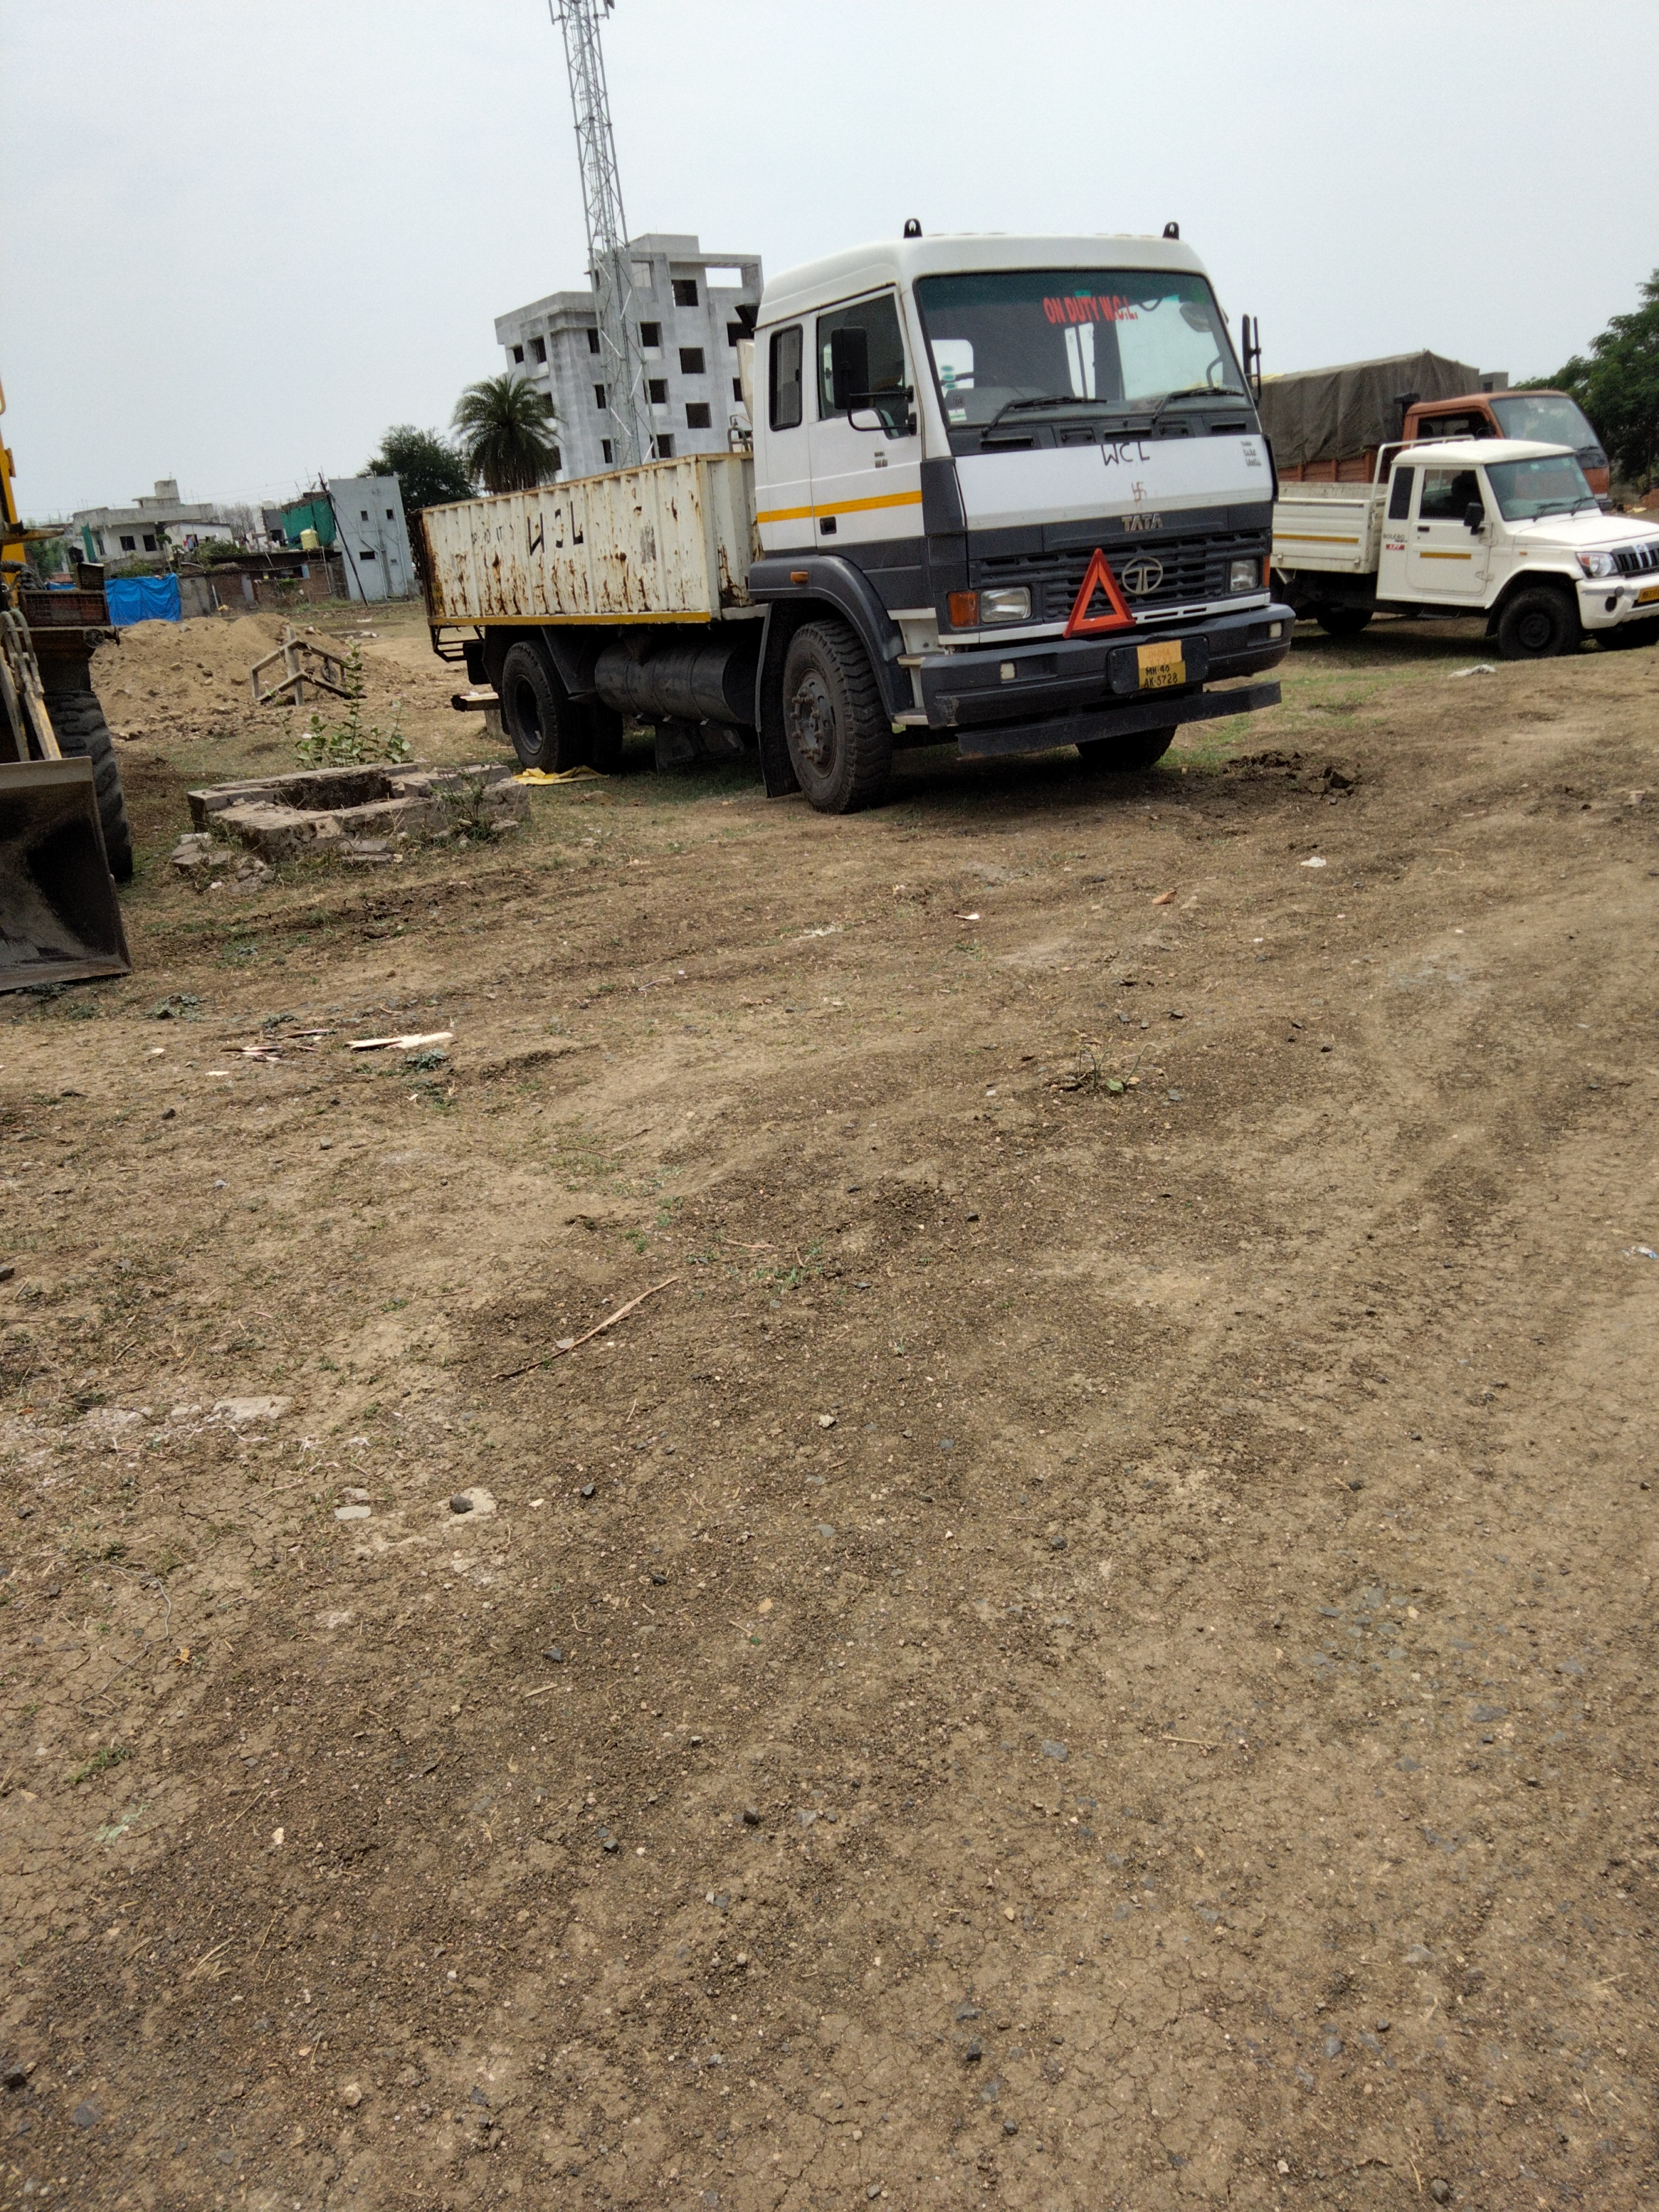truck: (404, 214, 1298, 817), (1188, 345, 1467, 484)
